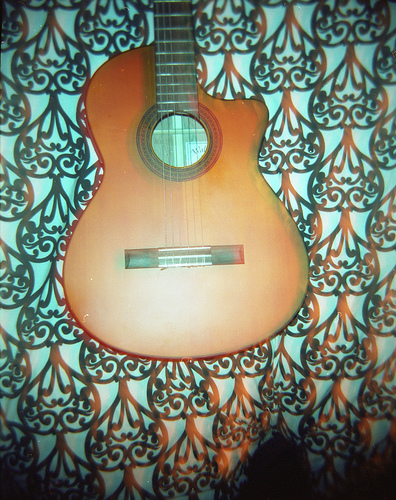guitar: (61, 1, 313, 360)
